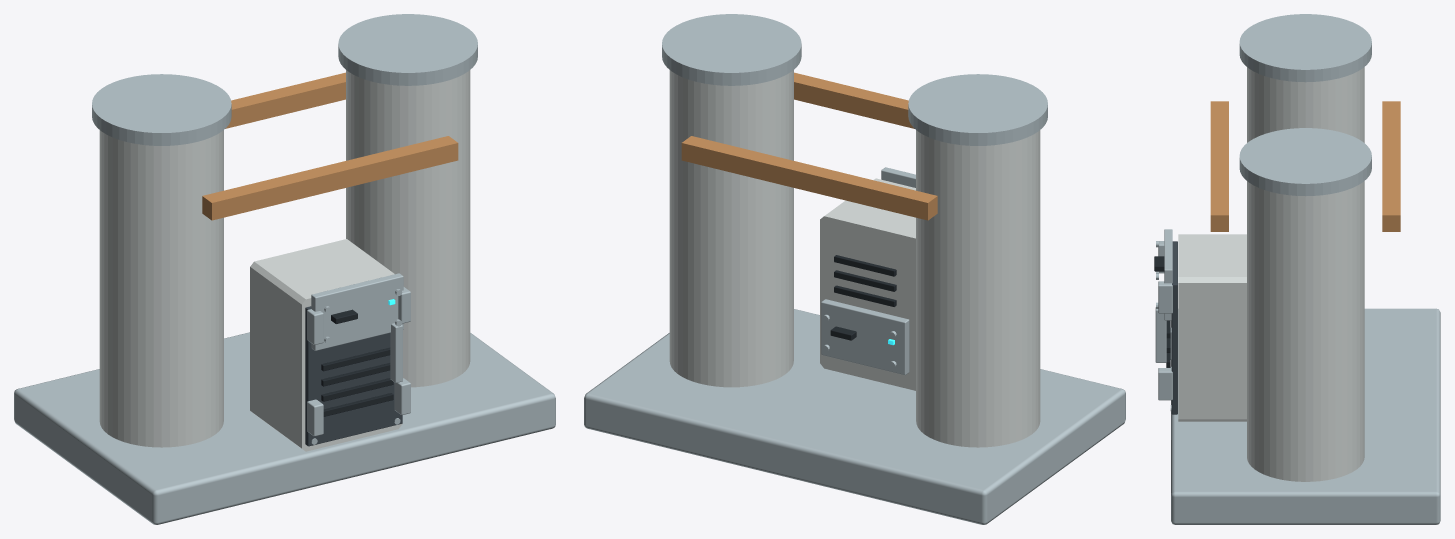
Rendered from data-centre-infiltration-kit-data-centre-infiltration--2a144854__29234.glb.
The picture shows the model from 3 angles, left to right: view 1: azimuth 30°, elevation 25°; view 2: azimuth 150°, elevation 25°; view 3: azimuth 270°, elevation 25°; orthographic projection. The views are drawn at different scales.
Parts seen in each view (by area): view 1: data-centre-infiltration-kit-liquid-cooling-skid; view 2: data-centre-infiltration-kit-liquid-cooling-skid; view 3: data-centre-infiltration-kit-liquid-cooling-skid.
Boxes of the visible parts, left/top/right/bottom form: data-centre-infiltration-kit-liquid-cooling-skid: left=14, top=14, right=555, bottom=524; data-centre-infiltration-kit-liquid-cooling-skid: left=584, top=14, right=1125, bottom=524; data-centre-infiltration-kit-liquid-cooling-skid: left=1154, top=14, right=1440, bottom=524.
Size of the model in its own units: 1.8 by 1.51 by 1.17.
